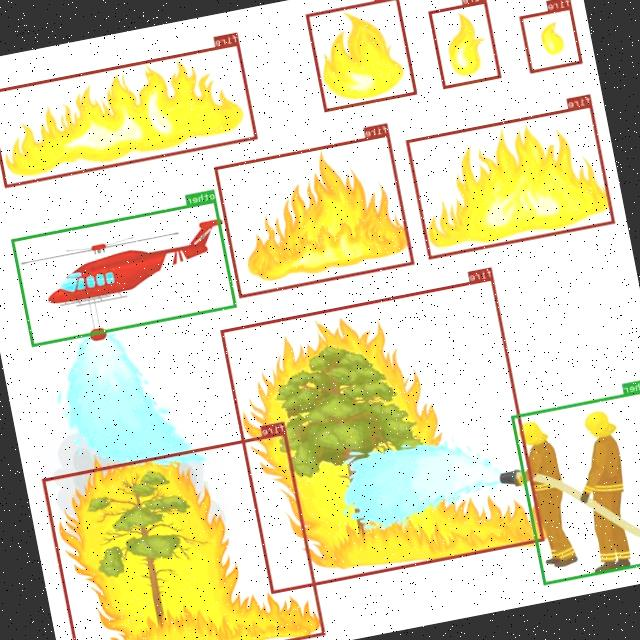fire: (221, 276, 545, 593), (42, 430, 326, 640), (0, 42, 258, 187), (216, 132, 416, 298), (407, 104, 616, 258), (306, 0, 417, 111), (429, 0, 502, 88), (520, 6, 584, 73)
